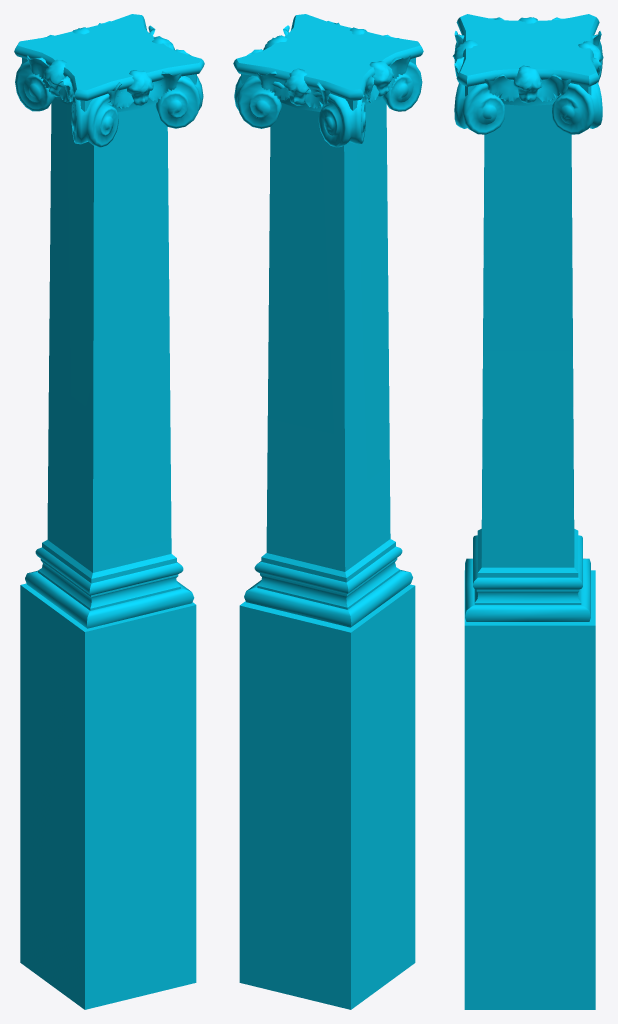
Rendered from Peter_Pillar07.FBX.
3 views of the same model, side by side, from view 1: azimuth 30°, elevation 25°; view 2: azimuth 150°, elevation 25°; view 3: azimuth 270°, elevation 25° (orthographic).
Visible parts, largest first — view 1: Peter_Pillar008; view 2: Peter_Pillar008; view 3: Peter_Pillar008.
Part boxes in pixels (left/top/right/bottom): Peter_Pillar008: left=14, top=14, right=204, bottom=1009; Peter_Pillar008: left=233, top=14, right=423, bottom=1009; Peter_Pillar008: left=452, top=14, right=603, bottom=1009.
Size of the model in its own units: 250 by 1688 by 246.
